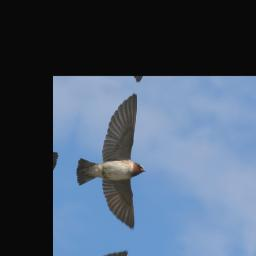Swallow: (65, 83, 165, 230)
